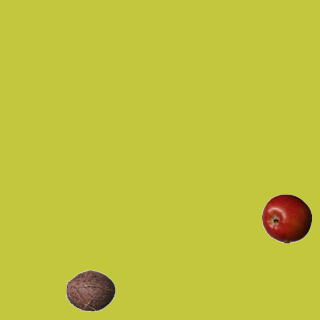Apple Braeburn: (261, 193, 311, 243)
Cocos: (65, 265, 115, 315)
